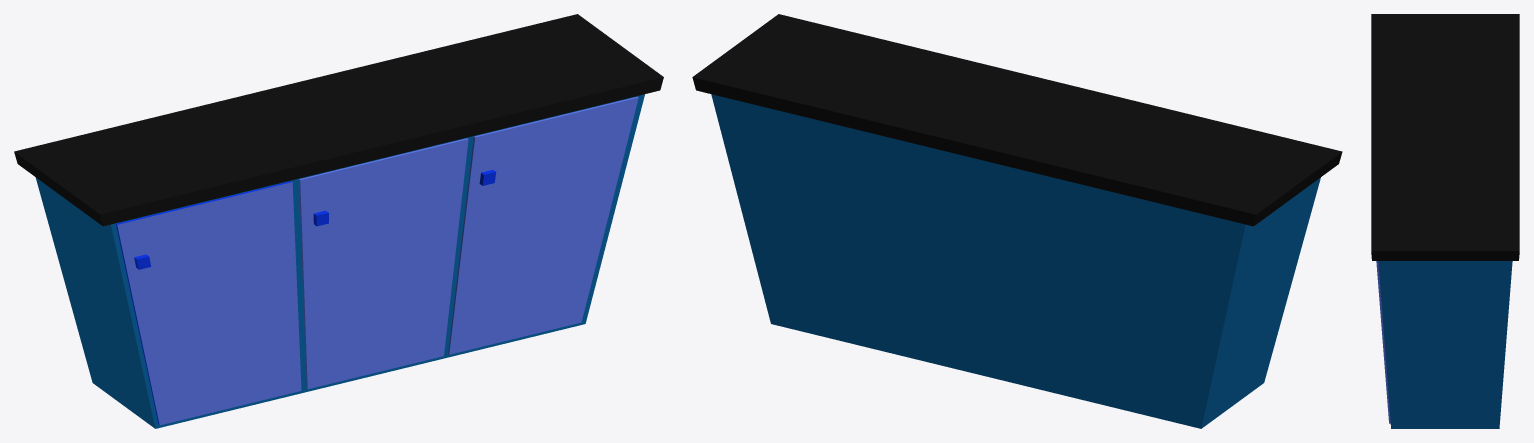
Rendered from House_Bathroom_Cupboards.FBX.
3 views of the same model, side by side, from view 1: azimuth 30°, elevation 25°; view 2: azimuth 150°, elevation 25°; view 3: azimuth 270°, elevation 25° (orthographic). The views are drawn at different scales.
Parts seen in each view (by area): view 1: House_Bathroom_Cupboards_doorLeft, House_Bathroom_Cupboards_bodyLeft, House_Bathroom_Cupboards_doorCenter, House_Bathroom_Cupboards_doorRight, House_Bathroom_Cupboards_bodyRight, House_Bathroom_Cupboards_bodyCenter; view 2: House_Bathroom_Cupboards_bodyLeft, House_Bathroom_Cupboards_bodyCenter, House_Bathroom_Cupboards_bodyRight; view 3: House_Bathroom_Cupboards_bodyRight, House_Bathroom_Cupboards_bodyLeft, House_Bathroom_Cupboards_bodyCenter, House_Bathroom_Cupboards_doorRight.
Part boxes in pixels (box(x1,y1,x2,y2)): House_Bathroom_Cupboards_doorLeft: box(116, 181, 301, 425); House_Bathroom_Cupboards_bodyLeft: box(14, 104, 302, 428); House_Bathroom_Cupboards_doorCenter: box(299, 138, 468, 388); House_Bathroom_Cupboards_doorRight: box(448, 96, 638, 354); House_Bathroom_Cupboards_bodyRight: box(391, 14, 663, 357); House_Bathroom_Cupboards_bodyCenter: box(210, 59, 476, 392); House_Bathroom_Cupboards_bodyLeft: box(1054, 103, 1342, 428); House_Bathroom_Cupboards_bodyCenter: box(879, 59, 1145, 392); House_Bathroom_Cupboards_bodyRight: box(692, 14, 965, 357); House_Bathroom_Cupboards_bodyRight: box(1371, 172, 1519, 428); House_Bathroom_Cupboards_bodyLeft: box(1371, 14, 1519, 96); House_Bathroom_Cupboards_bodyCenter: box(1371, 96, 1519, 172); House_Bathroom_Cupboards_doorRight: box(1376, 261, 1390, 423).
Bounding box in the file's own units: 298 × 121 × 78.86.
